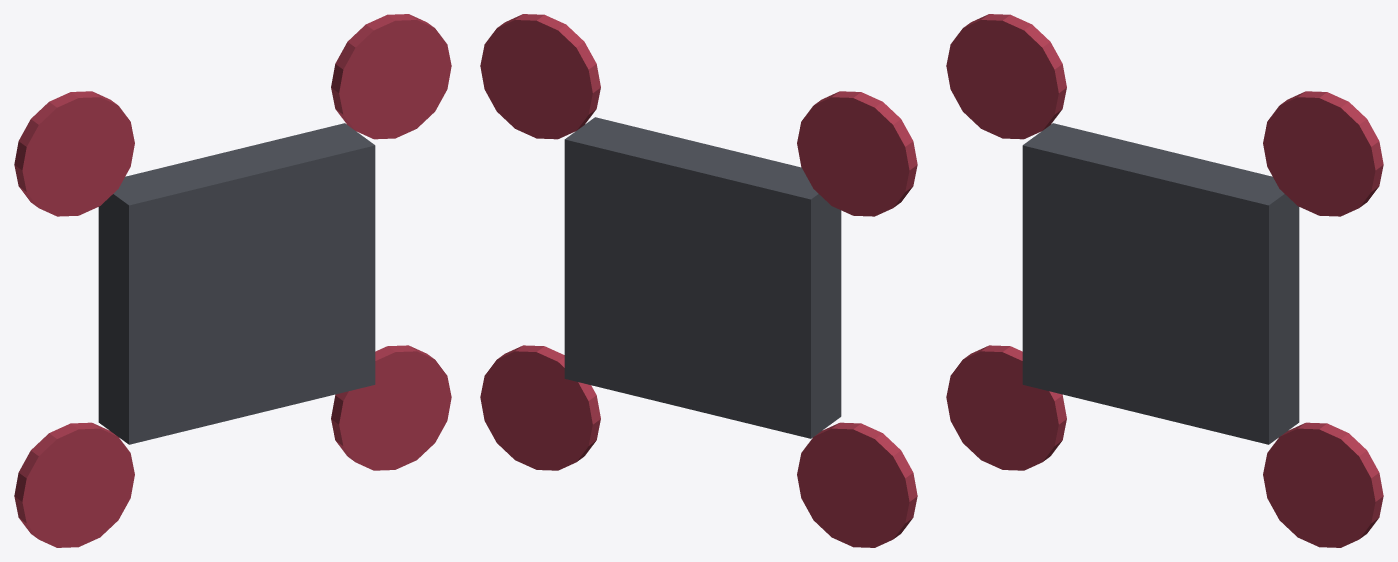
Rendered from drone_v01.glb.
3 views of the same model, side by side, from view 1: azimuth 30°, elevation 25°; view 2: azimuth 150°, elevation 25°; view 3: azimuth 330°, elevation 25° (orthographic).
Parts seen in each view (by area): view 1: box_0, cylinder_4, cylinder_1, cylinder_2, cylinder_3; view 2: box_0, cylinder_4, cylinder_1, cylinder_2, cylinder_3; view 3: box_0, cylinder_2, cylinder_3, cylinder_4, cylinder_1.
Part boxes in pixels (box(x1,y1,x2,y2)): box_0: box(98, 123, 375, 444); cylinder_4: box(331, 14, 451, 139); cylinder_1: box(14, 422, 134, 547); cylinder_2: box(14, 91, 134, 216); cylinder_3: box(331, 345, 451, 470); box_0: box(564, 117, 841, 438); cylinder_4: box(480, 14, 600, 139); cylinder_1: box(797, 422, 917, 547); cylinder_2: box(797, 91, 917, 216); cylinder_3: box(480, 345, 600, 470); box_0: box(1022, 123, 1299, 444); cylinder_2: box(946, 14, 1066, 139); cylinder_3: box(1263, 422, 1383, 547); cylinder_4: box(1263, 91, 1383, 216); cylinder_1: box(946, 345, 1066, 470).
Bounding box in the file's own units: 1.22 × 1.22 × 0.15.
